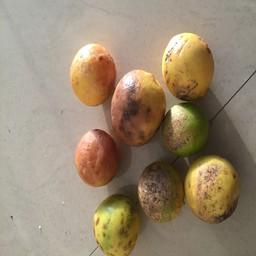Bad_lime: (111, 67, 164, 149), (184, 152, 241, 224), (164, 32, 216, 99), (69, 40, 116, 109), (136, 160, 183, 226), (74, 127, 120, 189), (93, 197, 140, 255), (161, 104, 209, 155)
